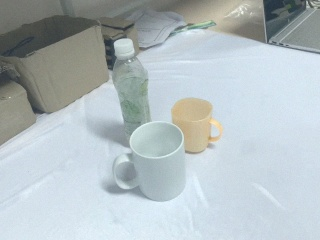bottle: (112, 38, 151, 141)
box: (1, 15, 108, 112), (97, 17, 140, 70)
cup: (114, 121, 189, 202), (171, 98, 224, 154)
